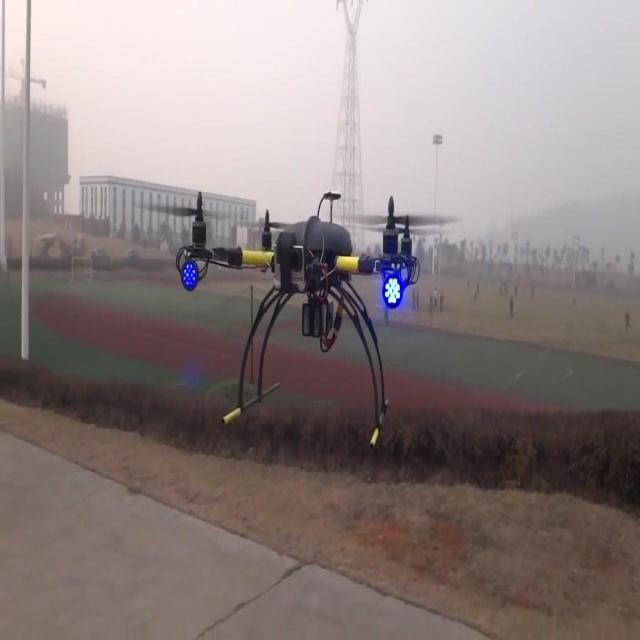drone: (175, 188, 422, 450)
